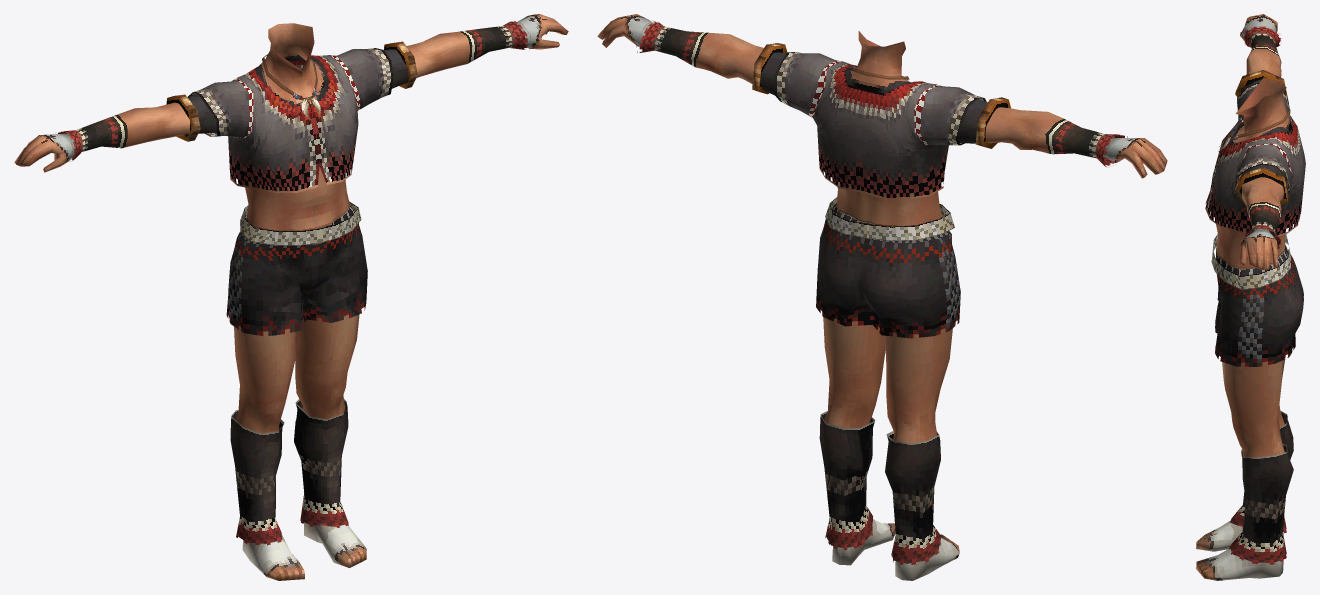
Rendered from m_body026.obj.
3 views of the same model, side by side, from view 1: azimuth 30°, elevation 25°; view 2: azimuth 150°, elevation 25°; view 3: azimuth 270°, elevation 25° (orthographic). The views are drawn at different scales.
Parts seen in each view (by area): view 1: editpl_m-0000-2, editpl_m-0000-1, editpl_m-0000-0; view 2: editpl_m-0000-2, editpl_m-0000-1, editpl_m-0000-0; view 3: editpl_m-0000-2, editpl_m-0000-1, editpl_m-0000-0.
Boxes of the visible parts, left/top/right/bottom form: editpl_m-0000-2: left=226, top=201, right=367, bottom=580; editpl_m-0000-1: left=187, top=23, right=408, bottom=230; editpl_m-0000-0: left=14, top=14, right=568, bottom=172; editpl_m-0000-2: left=816, top=197, right=960, bottom=580; editpl_m-0000-1: left=760, top=31, right=987, bottom=226; editpl_m-0000-0: left=597, top=14, right=1167, bottom=178; editpl_m-0000-2: left=1196, top=234, right=1303, bottom=580; editpl_m-0000-1: left=1205, top=77, right=1305, bottom=268; editpl_m-0000-0: left=1235, top=14, right=1288, bottom=269.
Size of the model in its own units: 177 by 159 by 33.49.
Materials: 3 (3 with a texture image).
